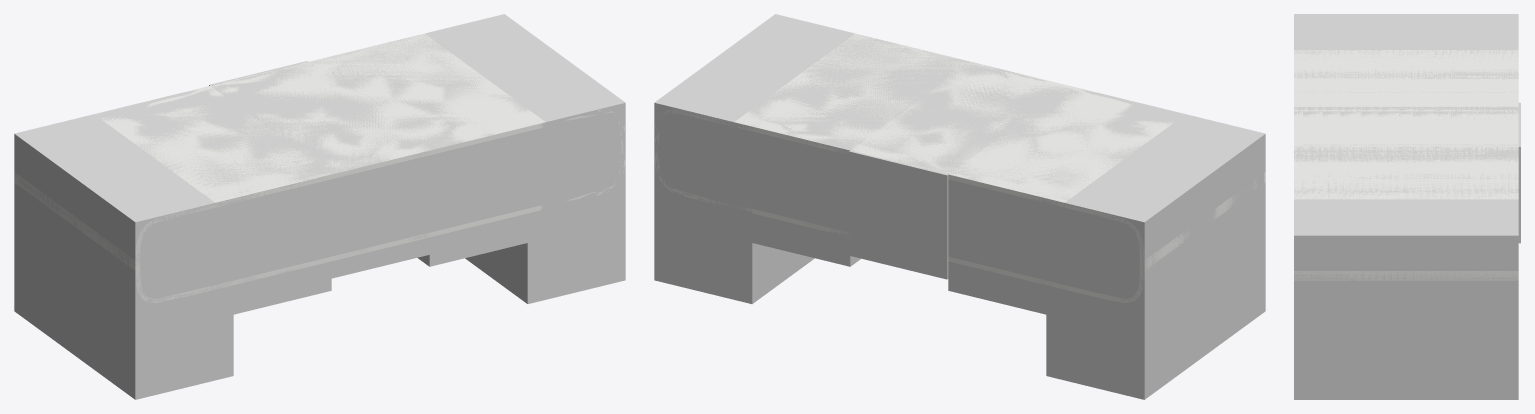
Rendered from coffee_table.glb.
The picture shows the model from 3 angles, left to right: view 1: azimuth 30°, elevation 25°; view 2: azimuth 150°, elevation 25°; view 3: azimuth 270°, elevation 25°; orthographic projection. The views are drawn at different scales.
Visible parts, largest first — view 1: TableLegs_COL, Table_0002; view 2: TableLegs_COL, Table_0002; view 3: TableLegs_COL, Table_0002.
Part boxes in pixels (<box>): TableLegs_COL: <box>14,14,625,399</box>; Table_0002: <box>14,33,625,302</box>; TableLegs_COL: <box>654,14,1265,399</box>; Table_0002: <box>654,33,1265,302</box>; TableLegs_COL: <box>1294,14,1520,399</box>; Table_0002: <box>1294,50,1518,280</box>.
Size of what is drawn, in the model's own units: 1.21 by 0.4193 by 0.524.
1 material, 1 textured.
